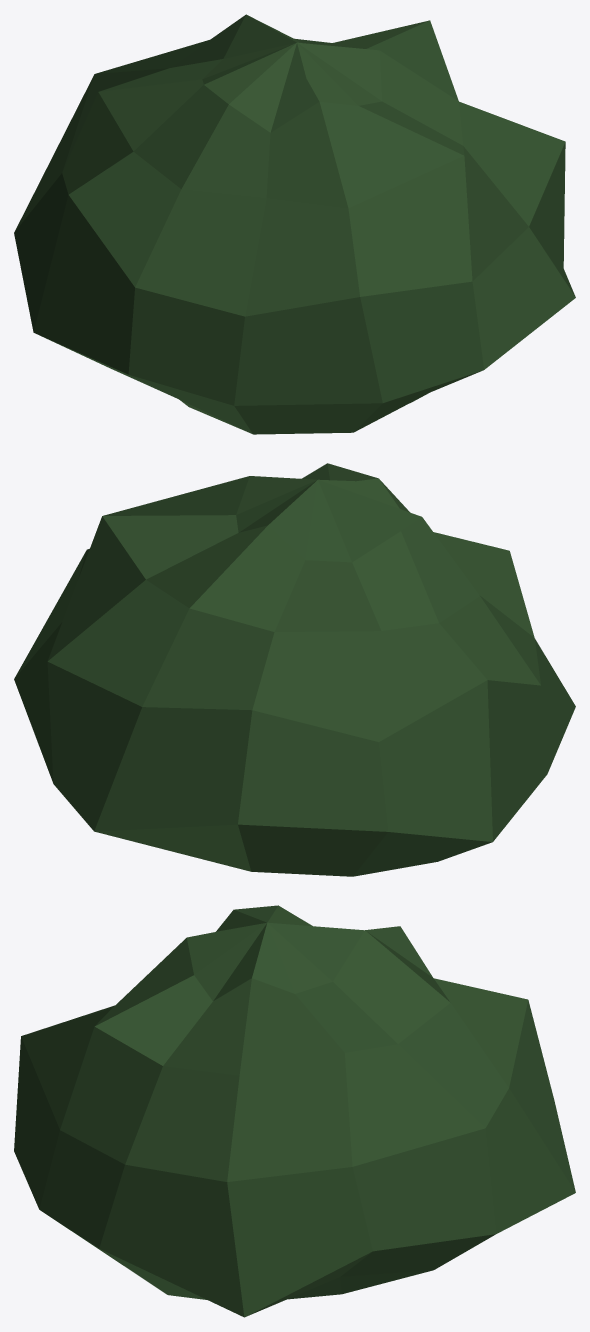
File: centeredbush.fbx
3 views of the same model, one above another, from view 1: azimuth 30°, elevation 25°; view 2: azimuth 150°, elevation 25°; view 3: azimuth 270°, elevation 25° (orthographic). The views are drawn at different scales.
Visible parts, largest first — view 1: bush; view 2: bush; view 3: bush.
Part boxes in pixels (box(x1,y1,x2,y2)): bush: box(14, 14, 575, 434); bush: box(14, 463, 575, 876); bush: box(14, 905, 575, 1317).
Bounding box in the file's own units: 354 × 253 × 373.
